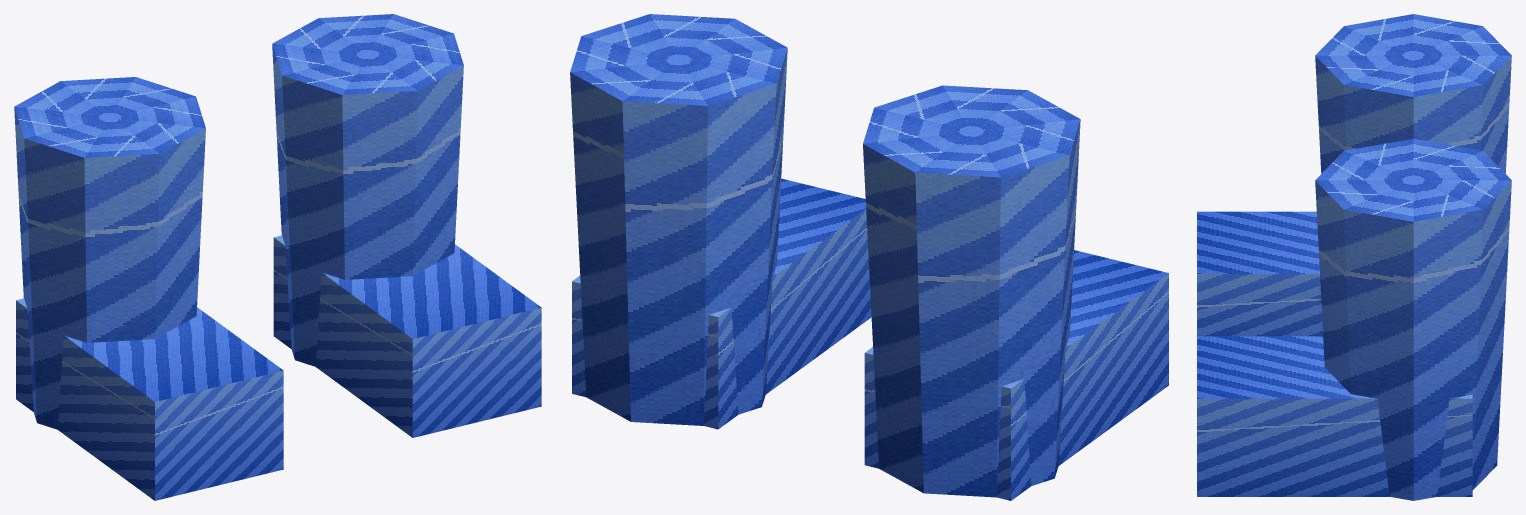
File: botas_de_safira.glb
The picture shows the model from 3 angles, left to right: view 1: azimuth 30°, elevation 25°; view 2: azimuth 150°, elevation 25°; view 3: azimuth 270°, elevation 25°; orthographic projection. The views are drawn at different scales.
Parts seen in each view (by area): view 1: botas_de_safira; view 2: botas_de_safira; view 3: botas_de_safira.
Part boxes in pixels (x1=…): botas_de_safira: x1=14, y1=14, x2=541, y2=500; botas_de_safira: x1=570, y1=14, x2=1168, y2=500; botas_de_safira: x1=1197, y1=14, x2=1511, y2=500.
Bounding box in the file's own units: 0.5 × 0.32 × 0.32.
Materials: 1 (1 with a texture image).
